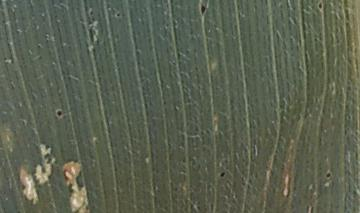tarspot: (199, 1, 207, 16), (55, 108, 63, 118), (316, 1, 324, 11), (88, 7, 96, 16), (325, 171, 332, 180), (115, 11, 122, 19), (219, 170, 226, 178)
